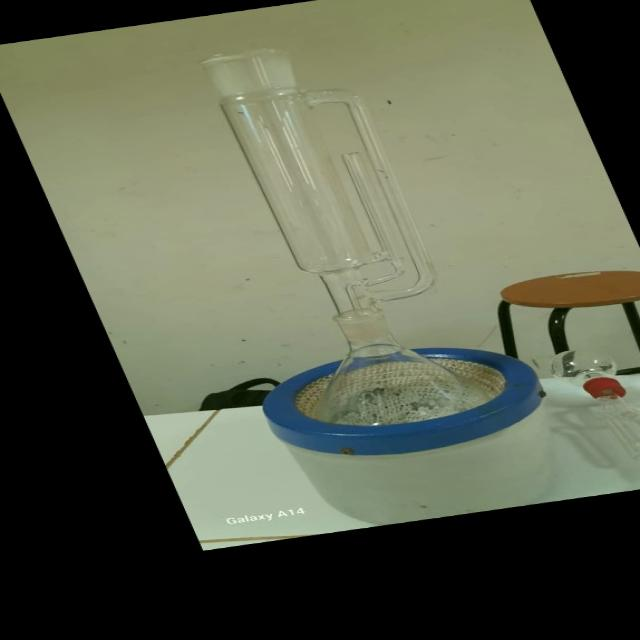Soxhlet: (159, 33, 469, 330)
